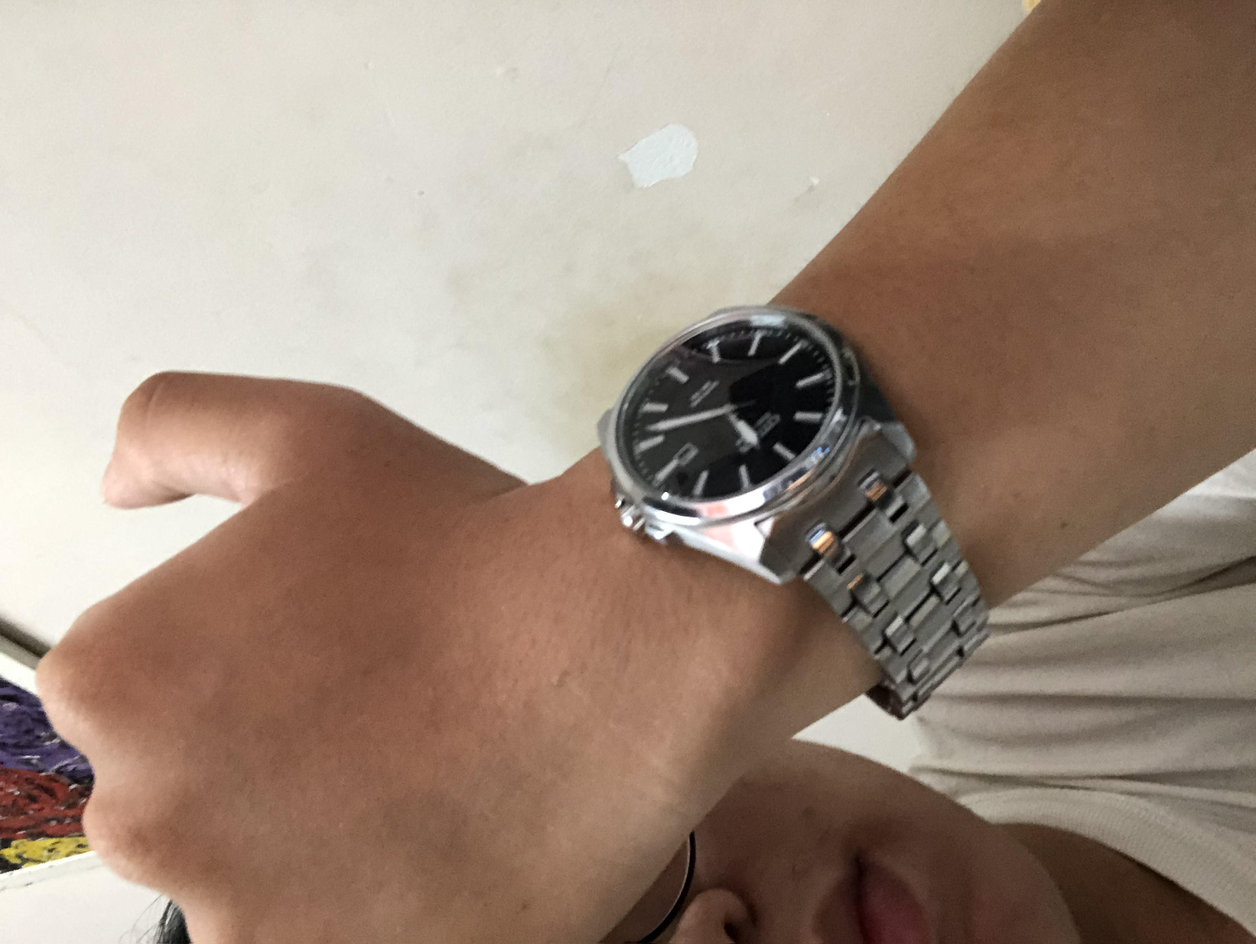watch: (291, 434, 864, 770)
